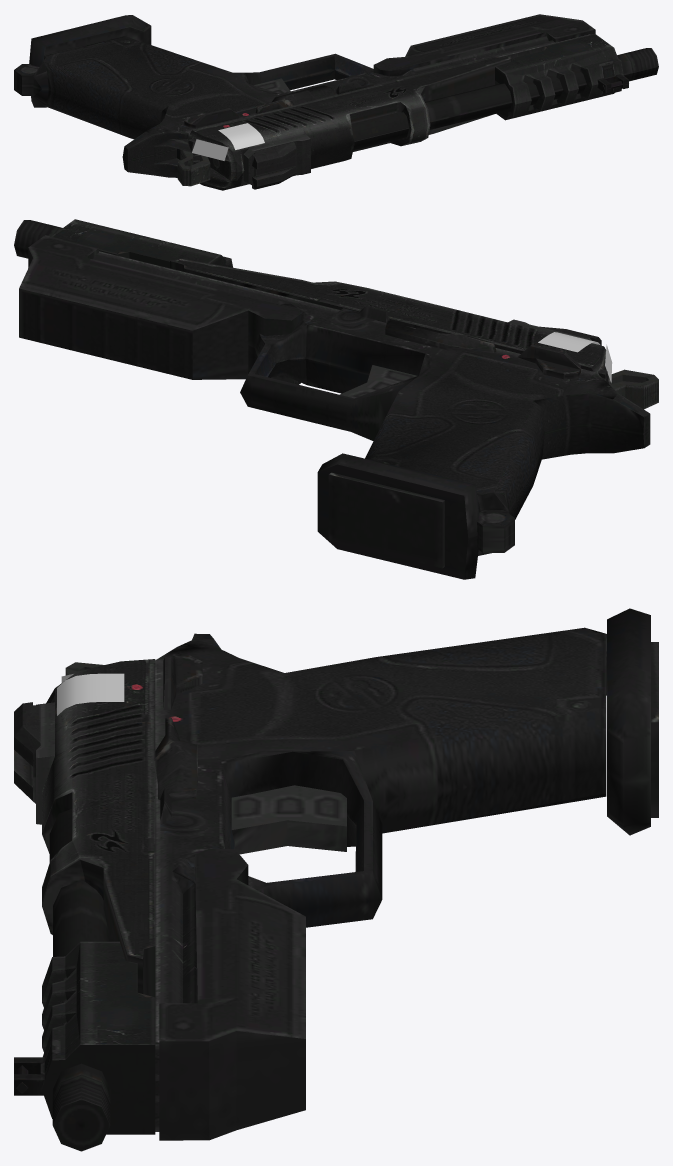
File: t6_wpn_pistol_b2023r_world_LOD0.obj
3 views of the same model, one above another, from view 1: azimuth 30°, elevation 25°; view 2: azimuth 150°, elevation 25°; view 3: azimuth 270°, elevation 25° (orthographic). The views are drawn at different scales.
Visible parts, largest first — view 1: mtl_t6_wpn_pistol_b2023r, mtl_t6_wpn_pistol_b2023r_camo1, mtl_t6_wpn_pistol_b2023r_camo3, mtl_t6_wpn_pistol_b2023r_camo2, mtl_player_icon_world, mtl_clan_tag_world; view 2: mtl_t6_wpn_pistol_b2023r, mtl_t6_wpn_pistol_b2023r_camo3, mtl_t6_wpn_pistol_b2023r_camo2, mtl_t6_wpn_pistol_b2023r_camo1, mtl_player_icon_world; view 3: mtl_t6_wpn_pistol_b2023r, mtl_t6_wpn_pistol_b2023r_camo3, mtl_t6_wpn_pistol_b2023r_camo2, mtl_t6_wpn_pistol_b2023r_camo1, mtl_player_icon_world.
Part boxes in pixels (bbox=[...]): mtl_t6_wpn_pistol_b2023r: bbox=[14, 14, 622, 189]; mtl_t6_wpn_pistol_b2023r_camo1: bbox=[187, 48, 623, 190]; mtl_t6_wpn_pistol_b2023r_camo3: bbox=[29, 15, 658, 149]; mtl_t6_wpn_pistol_b2023r_camo2: bbox=[192, 33, 613, 142]; mtl_player_icon_world: bbox=[218, 123, 264, 149]; mtl_clan_tag_world: bbox=[192, 139, 228, 160]; mtl_t6_wpn_pistol_b2023r: bbox=[19, 235, 658, 568]; mtl_t6_wpn_pistol_b2023r_camo3: bbox=[14, 220, 496, 579]; mtl_t6_wpn_pistol_b2023r_camo2: bbox=[51, 219, 603, 367]; mtl_t6_wpn_pistol_b2023r_camo1: bbox=[99, 250, 610, 382]; mtl_player_icon_world: bbox=[538, 332, 600, 352]; mtl_t6_wpn_pistol_b2023r: bbox=[14, 627, 658, 1140]; mtl_t6_wpn_pistol_b2023r_camo3: bbox=[14, 608, 650, 1151]; mtl_t6_wpn_pistol_b2023r_camo2: bbox=[78, 659, 155, 1044]; mtl_t6_wpn_pistol_b2023r_camo1: bbox=[42, 671, 155, 1134]; mtl_player_icon_world: bbox=[57, 673, 124, 715].
Bounding box in the file's own units: 29.63 × 4.03 × 17.11.
